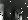person: (1, 5, 5, 20), (16, 11, 22, 20)
